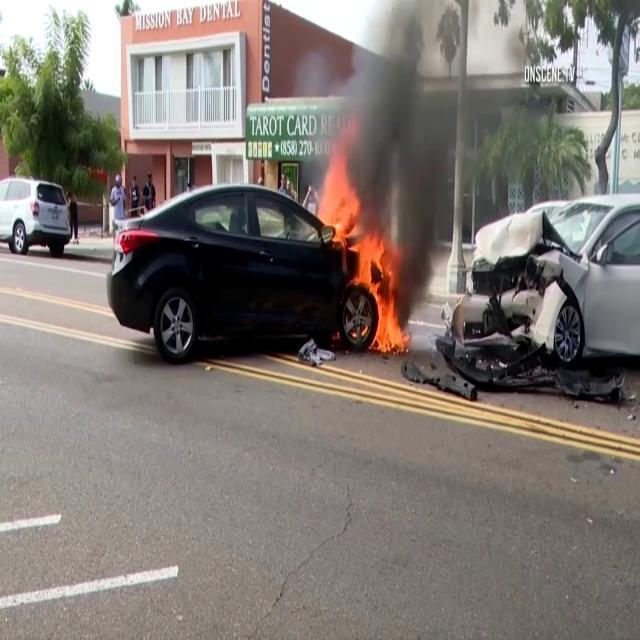Fire: (322, 165, 402, 351)
Smoke: (326, 6, 502, 290)
